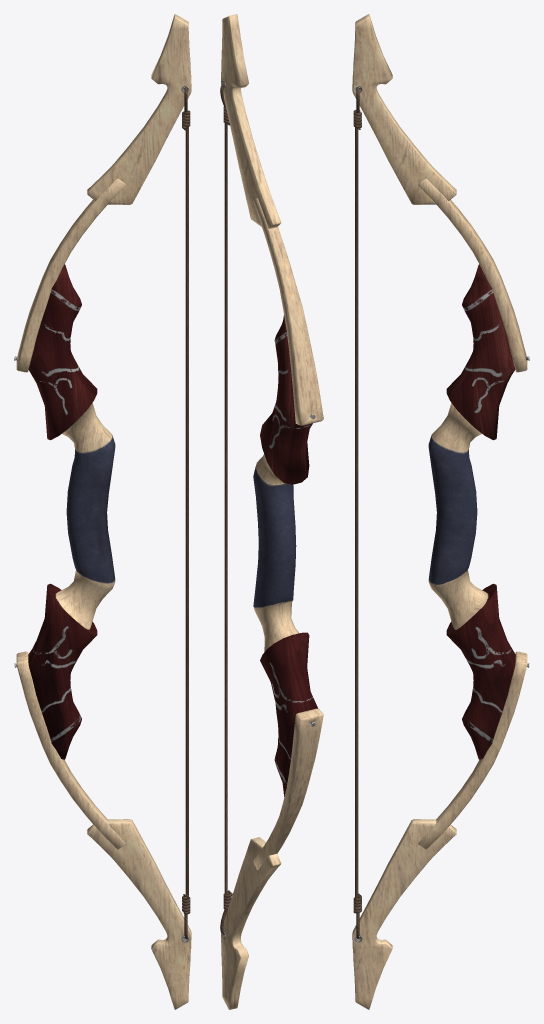
3 views of the same model, side by side, from view 1: azimuth 90°, elevation 25°; view 2: azimuth 210°, elevation 25°; view 3: azimuth 270°, elevation 25° (orthographic).
Parts seen in each view (by area): view 1: BOW_CORE_LP_0, Bow_part2_LP_2, Bow_part_1_LP_1, Cylinder_3; view 2: BOW_CORE_LP_0, Bow_part2_LP_2, Bow_part_1_LP_1, Cylinder_3; view 3: BOW_CORE_LP_0, Bow_part2_LP_2, Bow_part_1_LP_1, Cylinder_3.
Part boxes in pixels (left/top/right/bottom): BOW_CORE_LP_0: left=28, top=264, right=115, bottom=759; Bow_part2_LP_2: left=87, top=14, right=191, bottom=1009; Bow_part_1_LP_1: left=16, top=179, right=125, bottom=849; Cylinder_3: left=182, top=86, right=190, bottom=938; BOW_CORE_LP_0: left=253, top=315, right=318, bottom=796; Bow_part2_LP_2: left=221, top=14, right=281, bottom=1009; Bow_part_1_LP_1: left=253, top=198, right=323, bottom=869; Cylinder_3: left=220, top=82, right=232, bottom=934; BOW_CORE_LP_0: left=428, top=264, right=515, bottom=759; Bow_part2_LP_2: left=352, top=14, right=456, bottom=1009; Bow_part_1_LP_1: left=418, top=179, right=527, bottom=849; Cylinder_3: left=353, top=86, right=361, bottom=938.
Size of the model in its own units: 1.47 by 35.97 by 5.83.
5 materials, 5 textured.
